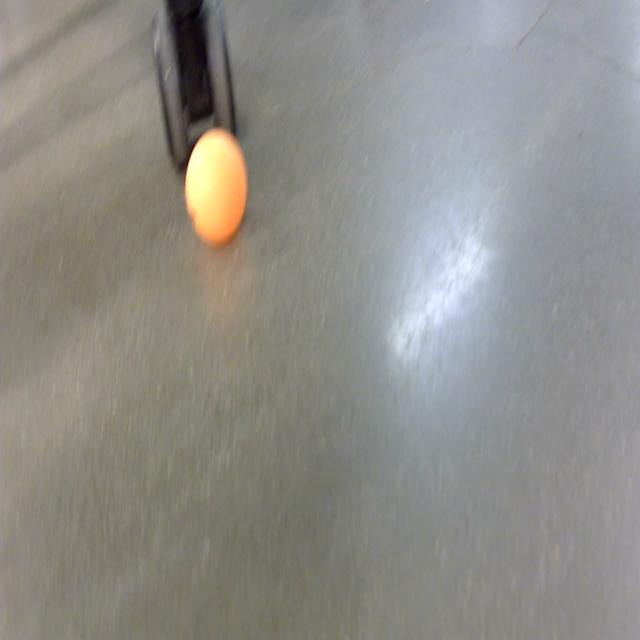ball: (184, 126, 249, 248)
